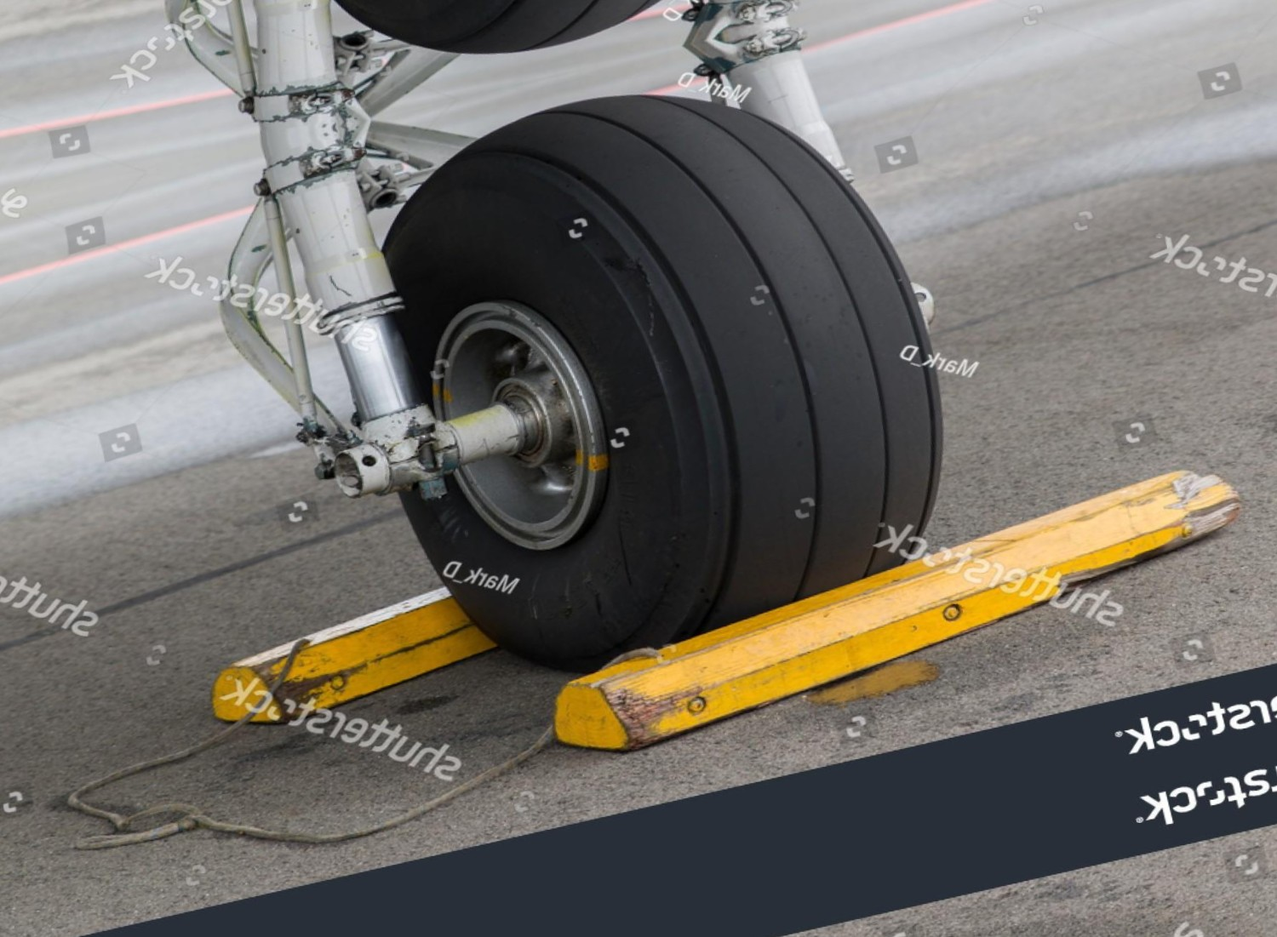chock: (517, 452, 1276, 770), (192, 526, 707, 742)
wheel: (342, 22, 992, 709)
